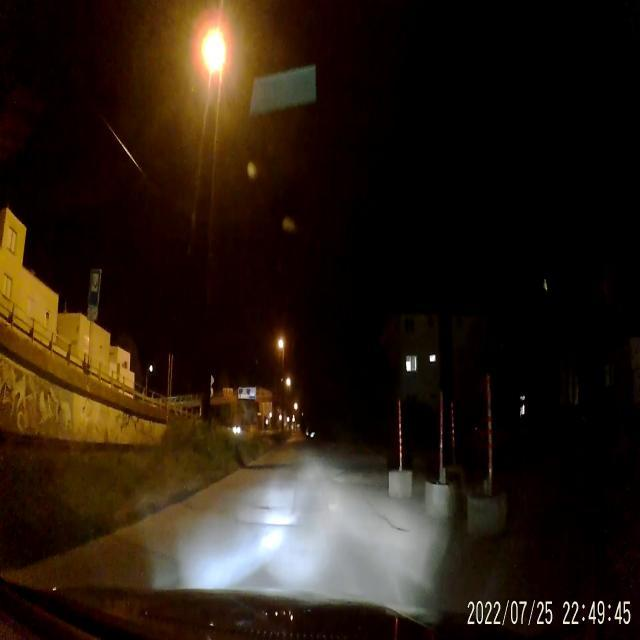Pothole: (240, 491, 307, 539), (372, 504, 418, 554)
